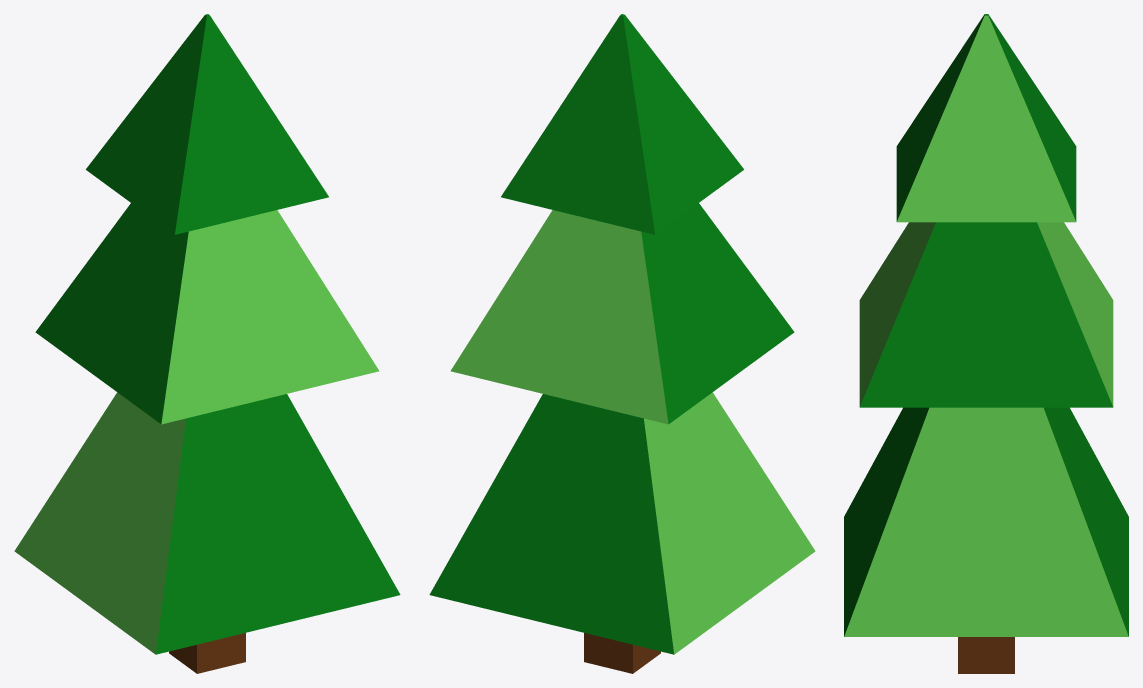
The model's file is Tree1.fbx.
3 views of the same model, side by side, from view 1: azimuth 30°, elevation 25°; view 2: azimuth 150°, elevation 25°; view 3: azimuth 270°, elevation 25° (orthographic).
Visible parts, largest first — view 1: Cube.001; view 2: Cube.001; view 3: Cube.001.
Boxes of the visible parts, <box> form: Cube.001: <box>14,14,400,673</box>; Cube.001: <box>429,14,815,673</box>; Cube.001: <box>844,14,1128,673</box>.
Bounding box in the file's own units: 417 × 1045 × 417.
